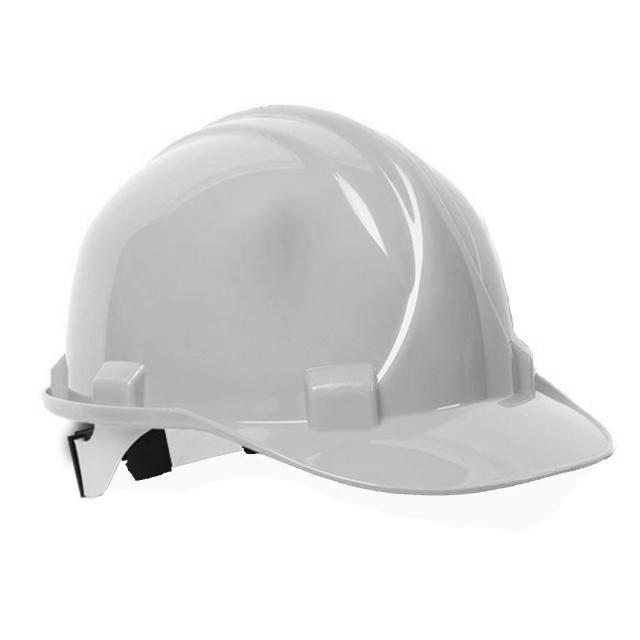construction helmet: (42, 105, 616, 499)
